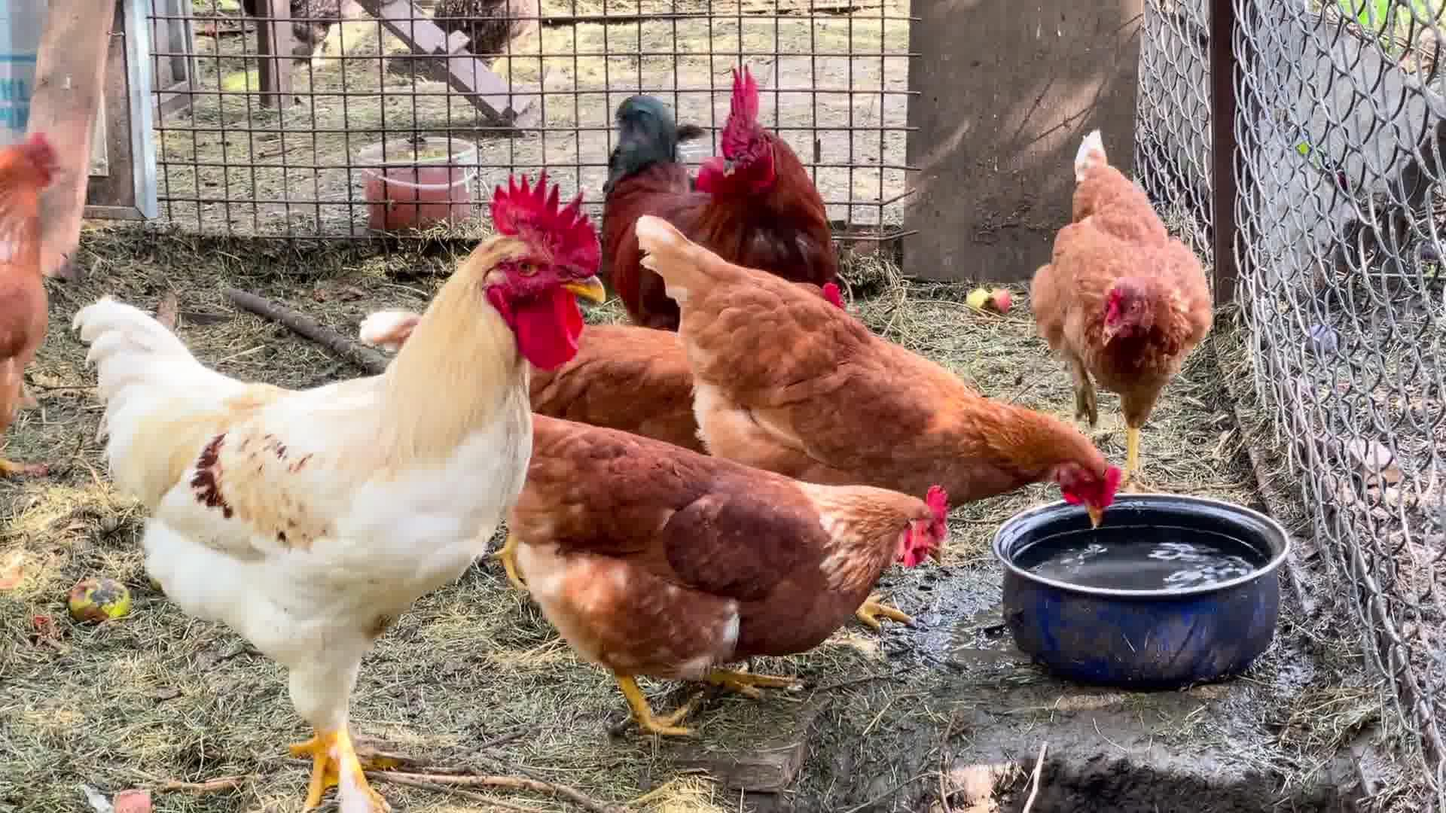Normal: (64, 177, 603, 813), (635, 217, 1125, 571), (531, 399, 969, 741), (595, 59, 872, 327), (1051, 125, 1224, 506)
